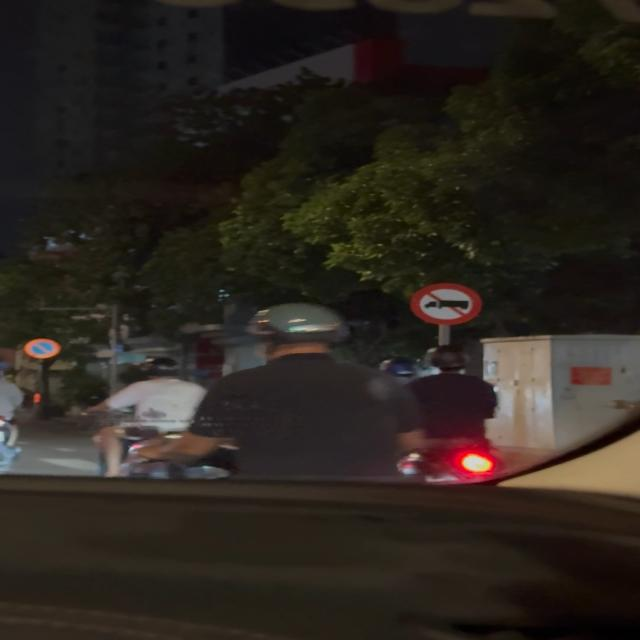Bien bao cam do xe: (26, 336, 63, 360)
Bien bao cam xe so-mi ro-mooc: (407, 282, 485, 326)
